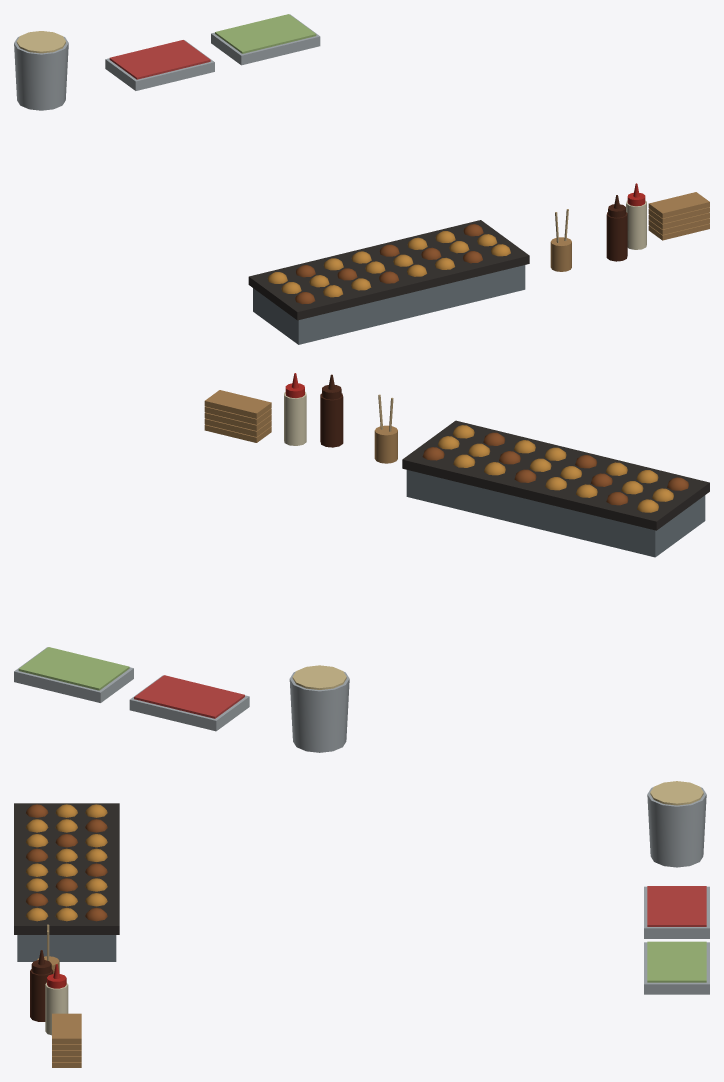
The model's file is goods_takoyaki.glb.
3 views of the same model, one above another, from view 1: azimuth 30°, elevation 25°; view 2: azimuth 150°, elevation 25°; view 3: azimuth 270°, elevation 25° (orthographic). The views are drawn at different scales.
Parts seen in each view (by area): view 1: goods_takoyaki; view 2: goods_takoyaki; view 3: goods_takoyaki.
Part boxes in pixels (x1,y1,x2,y2): goods_takoyaki: (14, 14, 709, 344); goods_takoyaki: (14, 373, 709, 752); goods_takoyaki: (14, 781, 709, 1067).
Bounding box in the file's own units: 1.63 × 0.2534 × 2.11.
